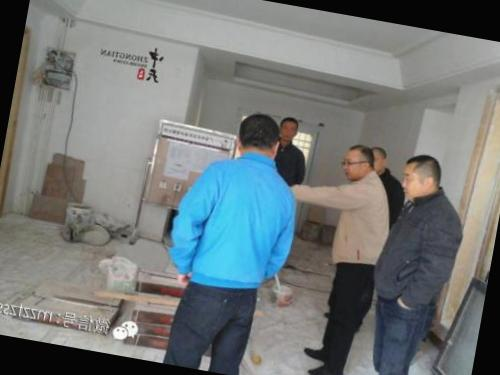no_helmet: (230, 105, 285, 169), (393, 148, 448, 206), (335, 140, 378, 182), (366, 140, 392, 176), (276, 112, 302, 145)
